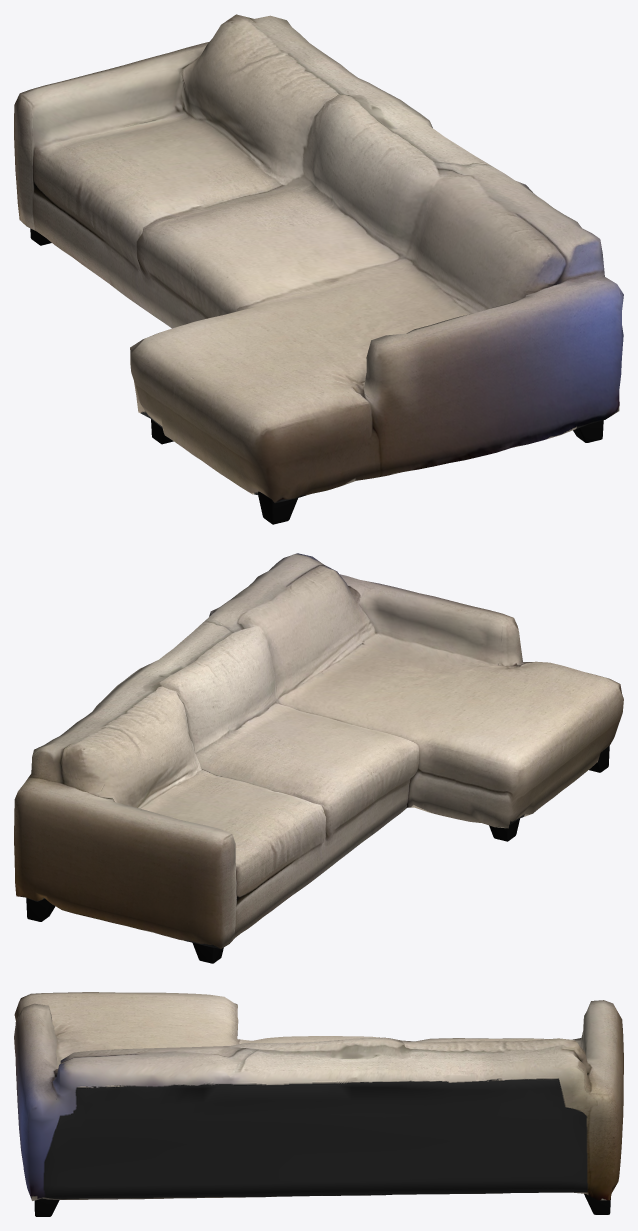
File: sofa-aberto2.glb
The picture shows the model from 3 angles, top to bottom: view 1: azimuth 30°, elevation 25°; view 2: azimuth 150°, elevation 25°; view 3: azimuth 270°, elevation 25°; orthographic projection. The views are drawn at different scales.
Visible parts, largest first — view 1: couch_lowpoly_Luka_Coza; view 2: couch_lowpoly_Luka_Coza; view 3: couch_lowpoly_Luka_Coza.
Boxes of the visible parts, box(x1,y1,x2,y2) form: couch_lowpoly_Luka_Coza: box(14, 14, 623, 524); couch_lowpoly_Luka_Coza: box(14, 553, 623, 963); couch_lowpoly_Luka_Coza: box(14, 992, 623, 1216).
Bounding box in the file's own units: 1.7 × 0.822 × 2.83.
Materials: 2 (1 with a texture image).
